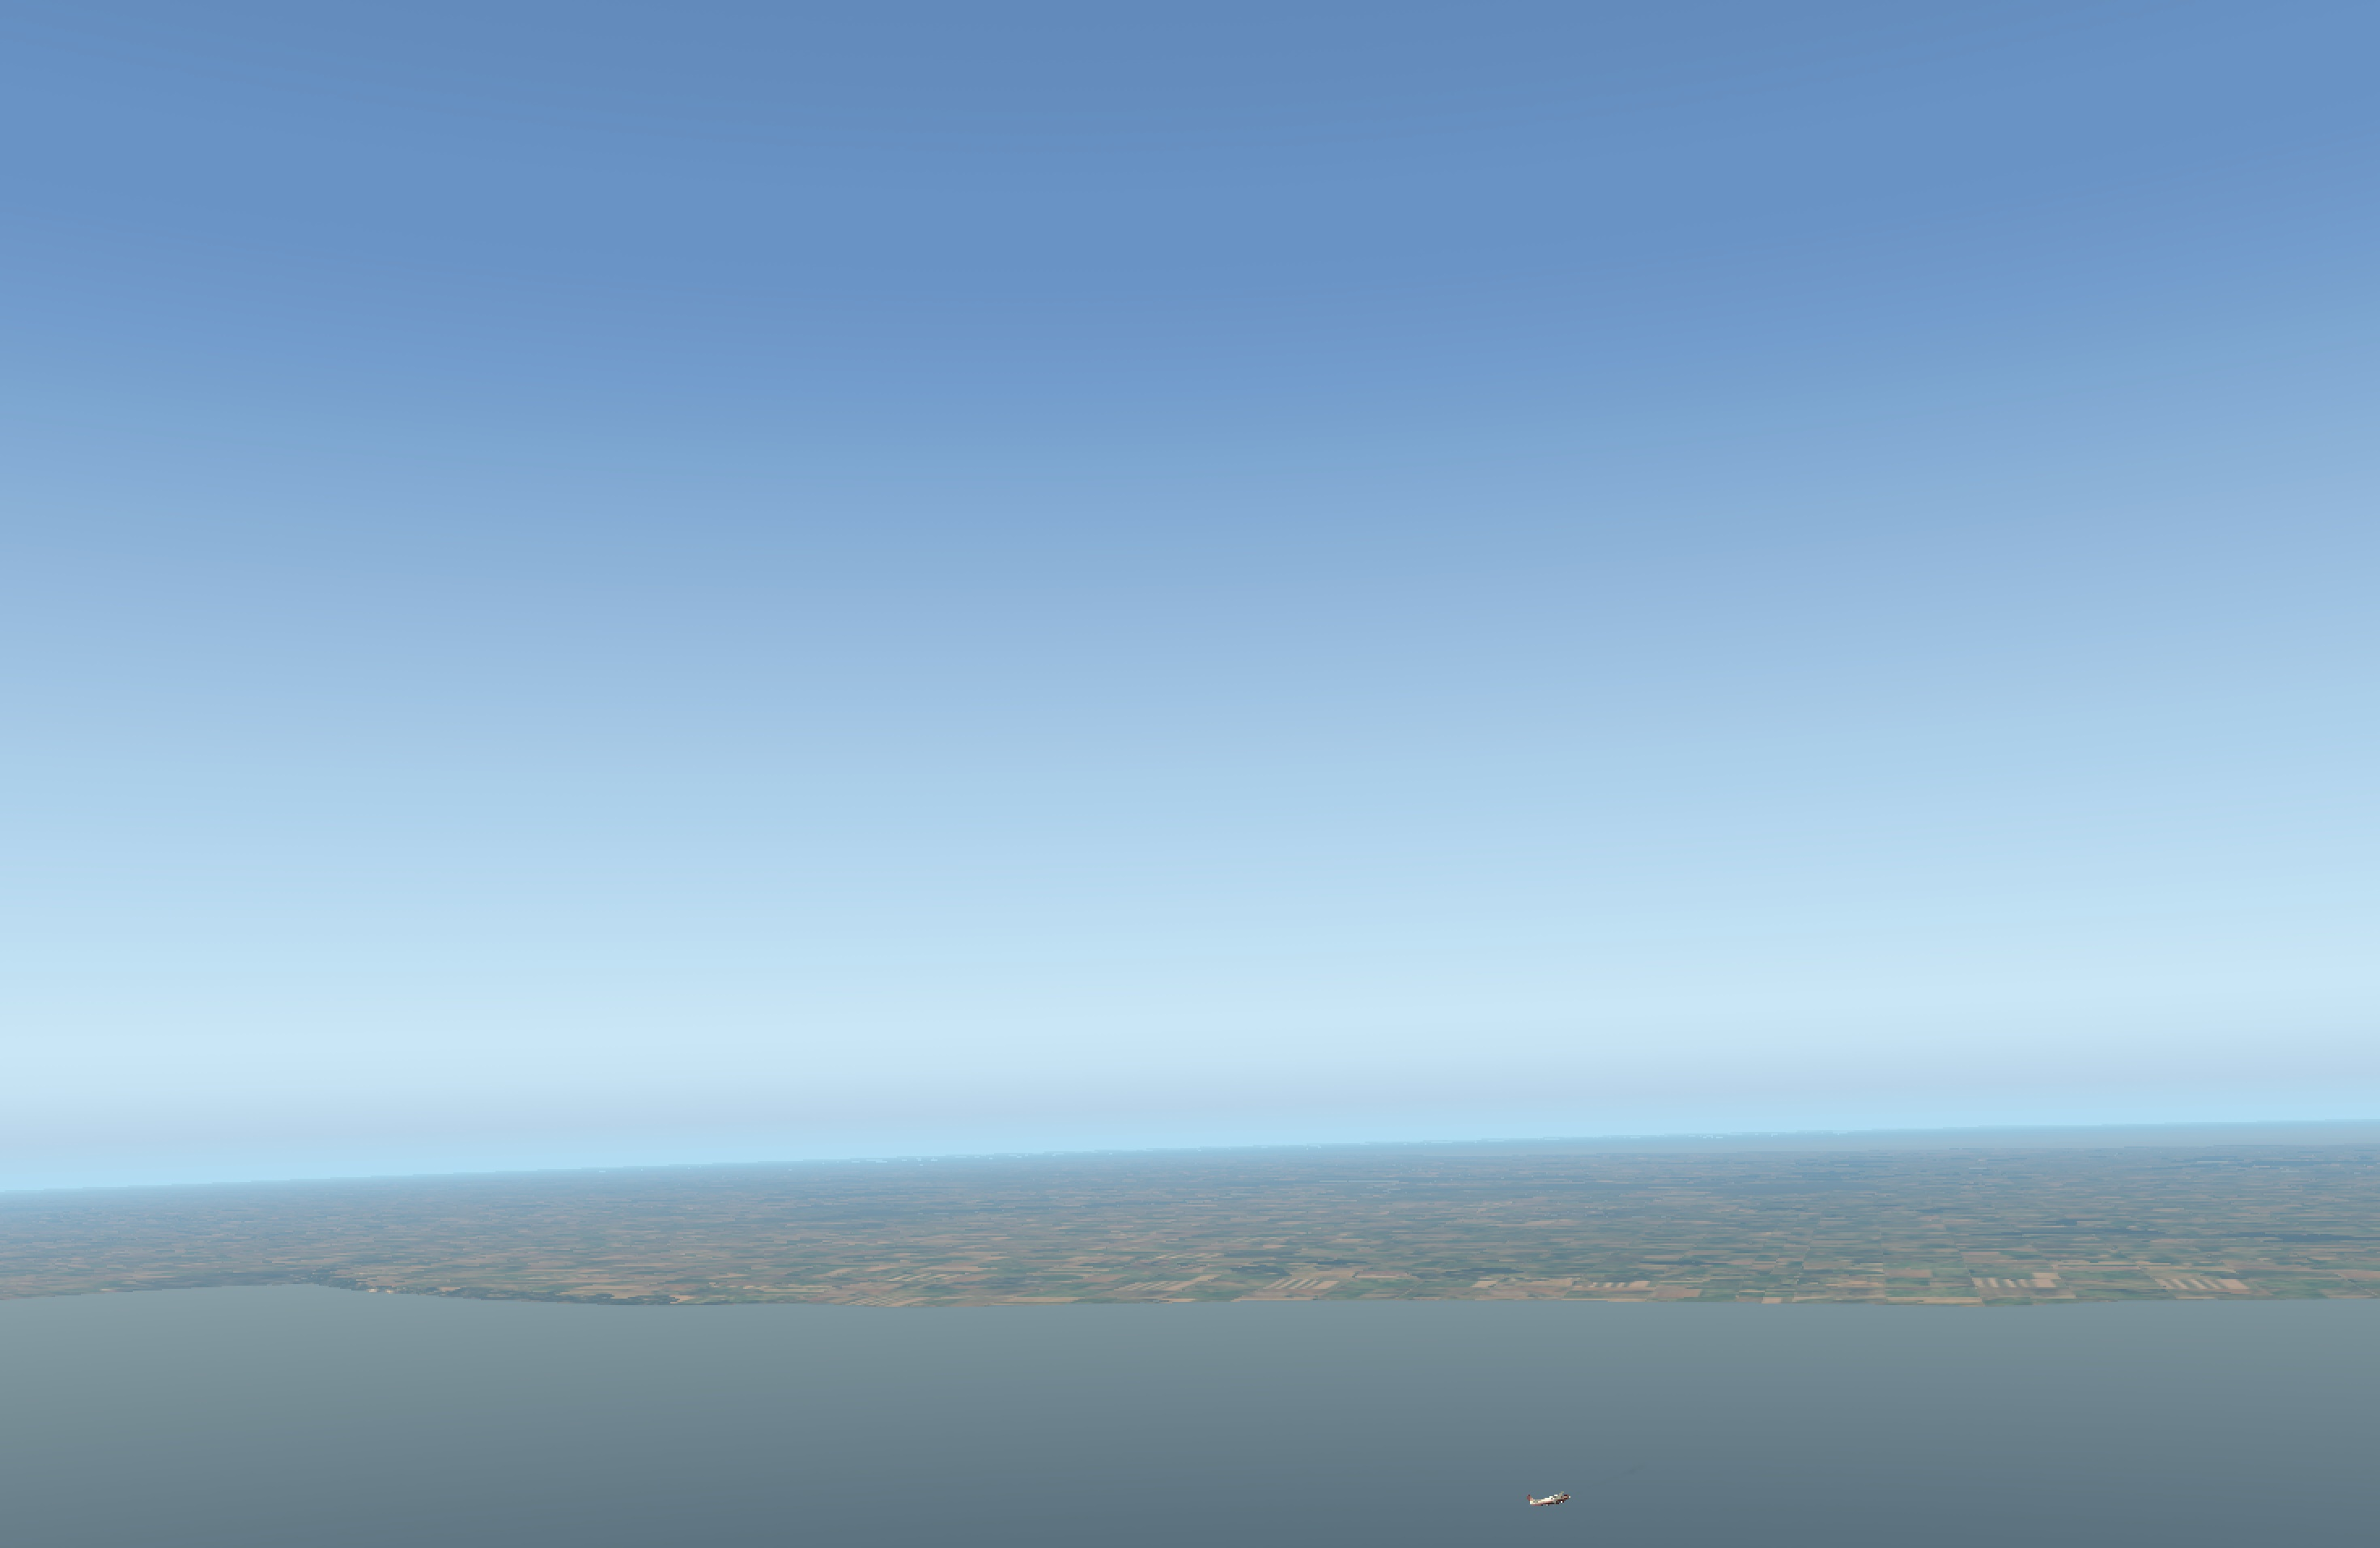aircraft: (1528, 1491, 1587, 1513)
